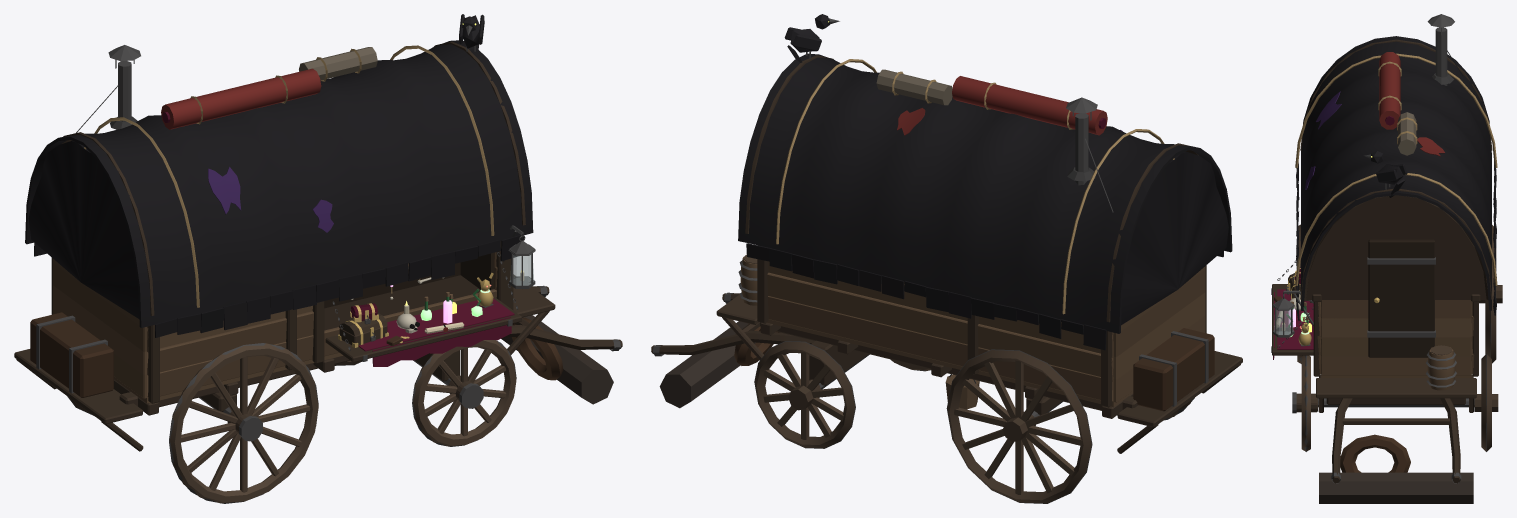
File: stand_wagon.glb
3 views of the same model, side by side, from view 1: azimuth 30°, elevation 25°; view 2: azimuth 150°, elevation 25°; view 3: azimuth 270°, elevation 25° (orthographic). The views are drawn at different scales.
Parts seen in each view (by area): view 1: stand_wagon; view 2: stand_wagon; view 3: stand_wagon.
Boxes of the visible parts, x1,y1,x2,y2 form: stand_wagon: [14, 14, 622, 503]; stand_wagon: [651, 14, 1242, 503]; stand_wagon: [1271, 14, 1502, 503].
Size of what is drawn, in the model's own units: 4.64 by 3.4 by 2.15.
